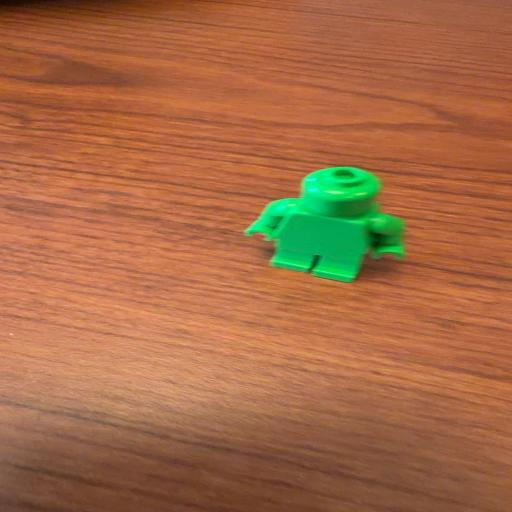UnoQ-minifig-detector: (243, 165, 406, 283)
